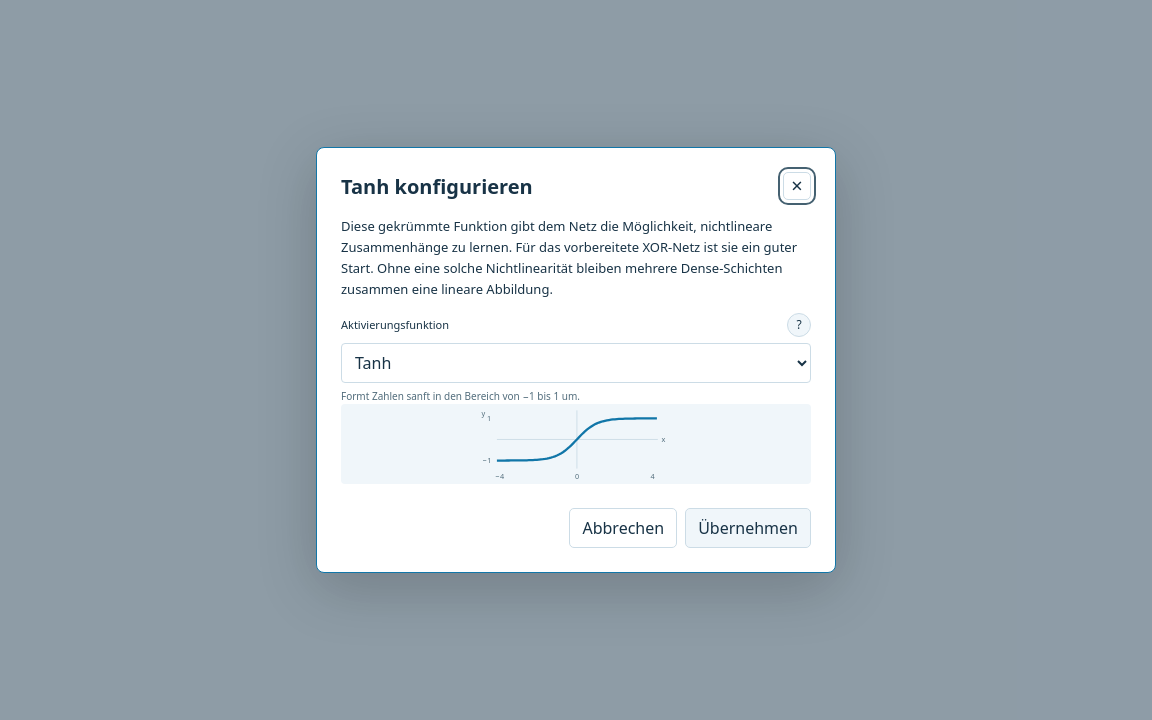
changes an activation and shows its mathematical curve
This screenshot has width=1152, height=720.
Later steps or results of the test are not shown.
Select "ReLU" in the dropdown labelled "Aktivierungsfunktion" at (576, 363), box top-left (341, 343), bottom-right (811, 383)
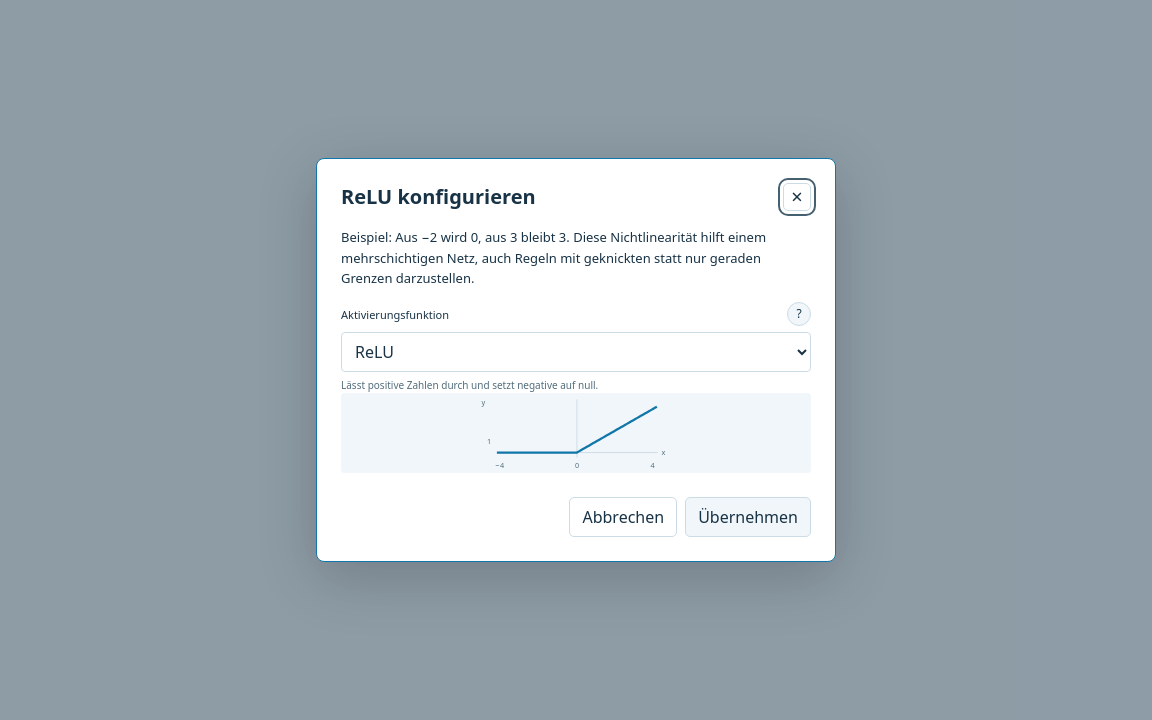
Now the heading "ReLU konfigurieren" is shown, box top-left (341, 183), bottom-right (536, 210)
Now the text "Aus −2 wird 0, aus 3 bleibt 3" is shown, box top-left (341, 228), bottom-right (766, 287)
